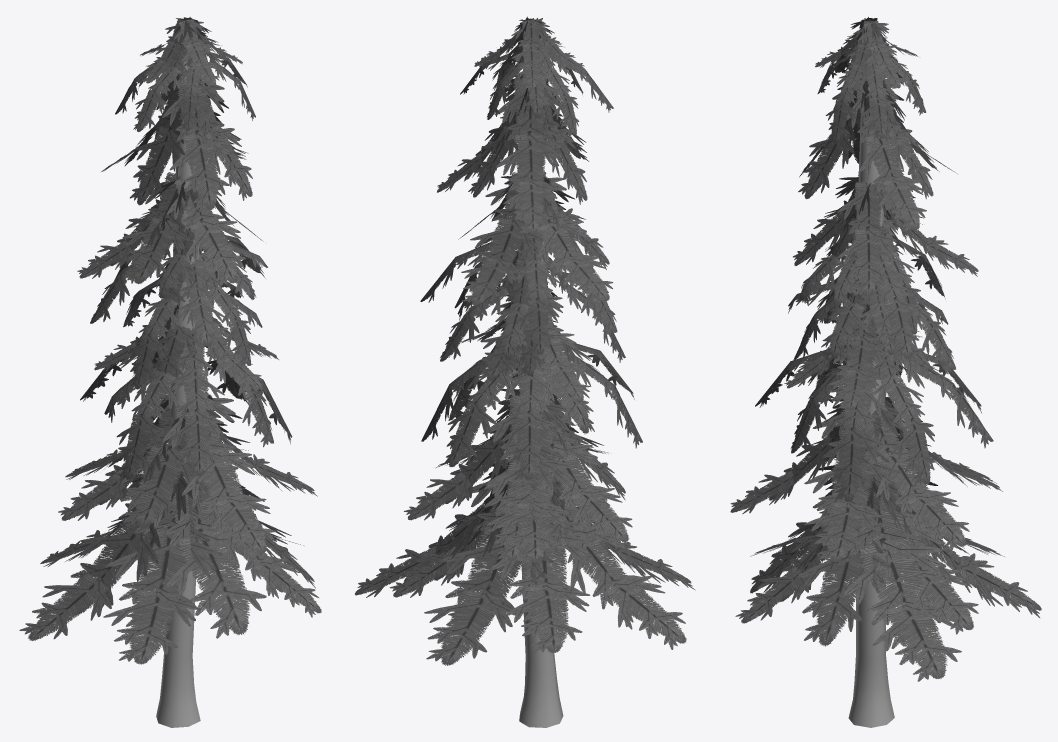
Rendered from PineTrees_V1_Test.fbx.
3 renders of one model, left to right at view 1: azimuth 30°, elevation 25°; view 2: azimuth 150°, elevation 25°; view 3: azimuth 270°, elevation 25°, orthographic.
Parts seen in each view (by area): view 1: pPlane8 (×5), pPlane11 (×3), pPlane10 (×2), pPlane7 (×2), Pine_Tree, pPlane13 (×2), pPlane25 (×2), pPlane22 (×3), pPlane26 (×3), pPlane29, pPlane9, pPlane17 (+9 smaller); view 2: pPlane9 (×5), pPlane4 (×3), pPlane8 (×4), pPlane13 (×3), pPlane24 (×4), pPlane11, pPlane6 (×2), pPlane22 (×3), pPlane7 (×2), pPlane30, pPlane27 (×3), Pine_Tree (+7 smaller); view 3: pPlane4 (×3), pPlane6 (×4), pPlane7 (×3), Pine_Tree, pPlane10, pPlane9 (×2), pPlane29 (×4), pPlane24 (×2), pPlane12 (×2), pPlane25 (×3), pPlane28, pPlane13 (+9 smaller).
Boxes of the visible parts, x1,y1,x2,y2 form: pPlane8 (×5): (19, 18, 252, 640); pPlane11 (×3): (40, 76, 275, 566); pPlane10 (×2): (103, 433, 317, 664); pPlane7 (×2): (153, 19, 266, 638); Pine_Tree: (156, 58, 200, 727); pPlane13 (×2): (58, 75, 198, 520); pPlane25 (×2): (116, 37, 255, 479); pPlane22 (×3): (90, 39, 226, 347); pPlane26 (×3): (156, 40, 252, 367); pPlane29: (164, 327, 224, 476); pPlane9: (116, 394, 220, 528); pPlane17: (122, 172, 200, 284); pPlane9 (×5): (424, 19, 625, 665); pPlane4 (×3): (355, 77, 576, 597); pPlane8 (×4): (515, 18, 686, 649); pPlane13 (×3): (389, 80, 632, 597); pPlane24 (×4): (421, 38, 625, 441); pPlane11: (484, 472, 593, 653); pPlane6 (×2): (485, 88, 564, 561); pPlane22 (×3): (444, 38, 617, 466); pPlane7 (×2): (404, 88, 527, 520); pPlane30: (500, 350, 560, 479); pPlane27 (×3): (420, 46, 554, 362); Pine_Tree: (518, 69, 563, 727); pPlane4 (×3): (821, 20, 961, 681); pPlane6 (×4): (795, 181, 1002, 646); pPlane7 (×3): (750, 78, 969, 593); Pine_Tree: (848, 71, 894, 727); pPlane10: (804, 399, 901, 562); pPlane9 (×2): (871, 183, 1041, 617); pPlane29 (×4): (755, 45, 955, 407); pPlane24 (×2): (870, 221, 945, 486); pPlane12 (×2): (735, 79, 933, 623); pPlane25 (×3): (799, 41, 899, 355); pPlane28: (821, 347, 888, 502); pPlane13: (865, 463, 978, 634).
Bounding box in the file's own units: 2.81 × 6.01 × 2.44.
2 materials, 1 textured.
